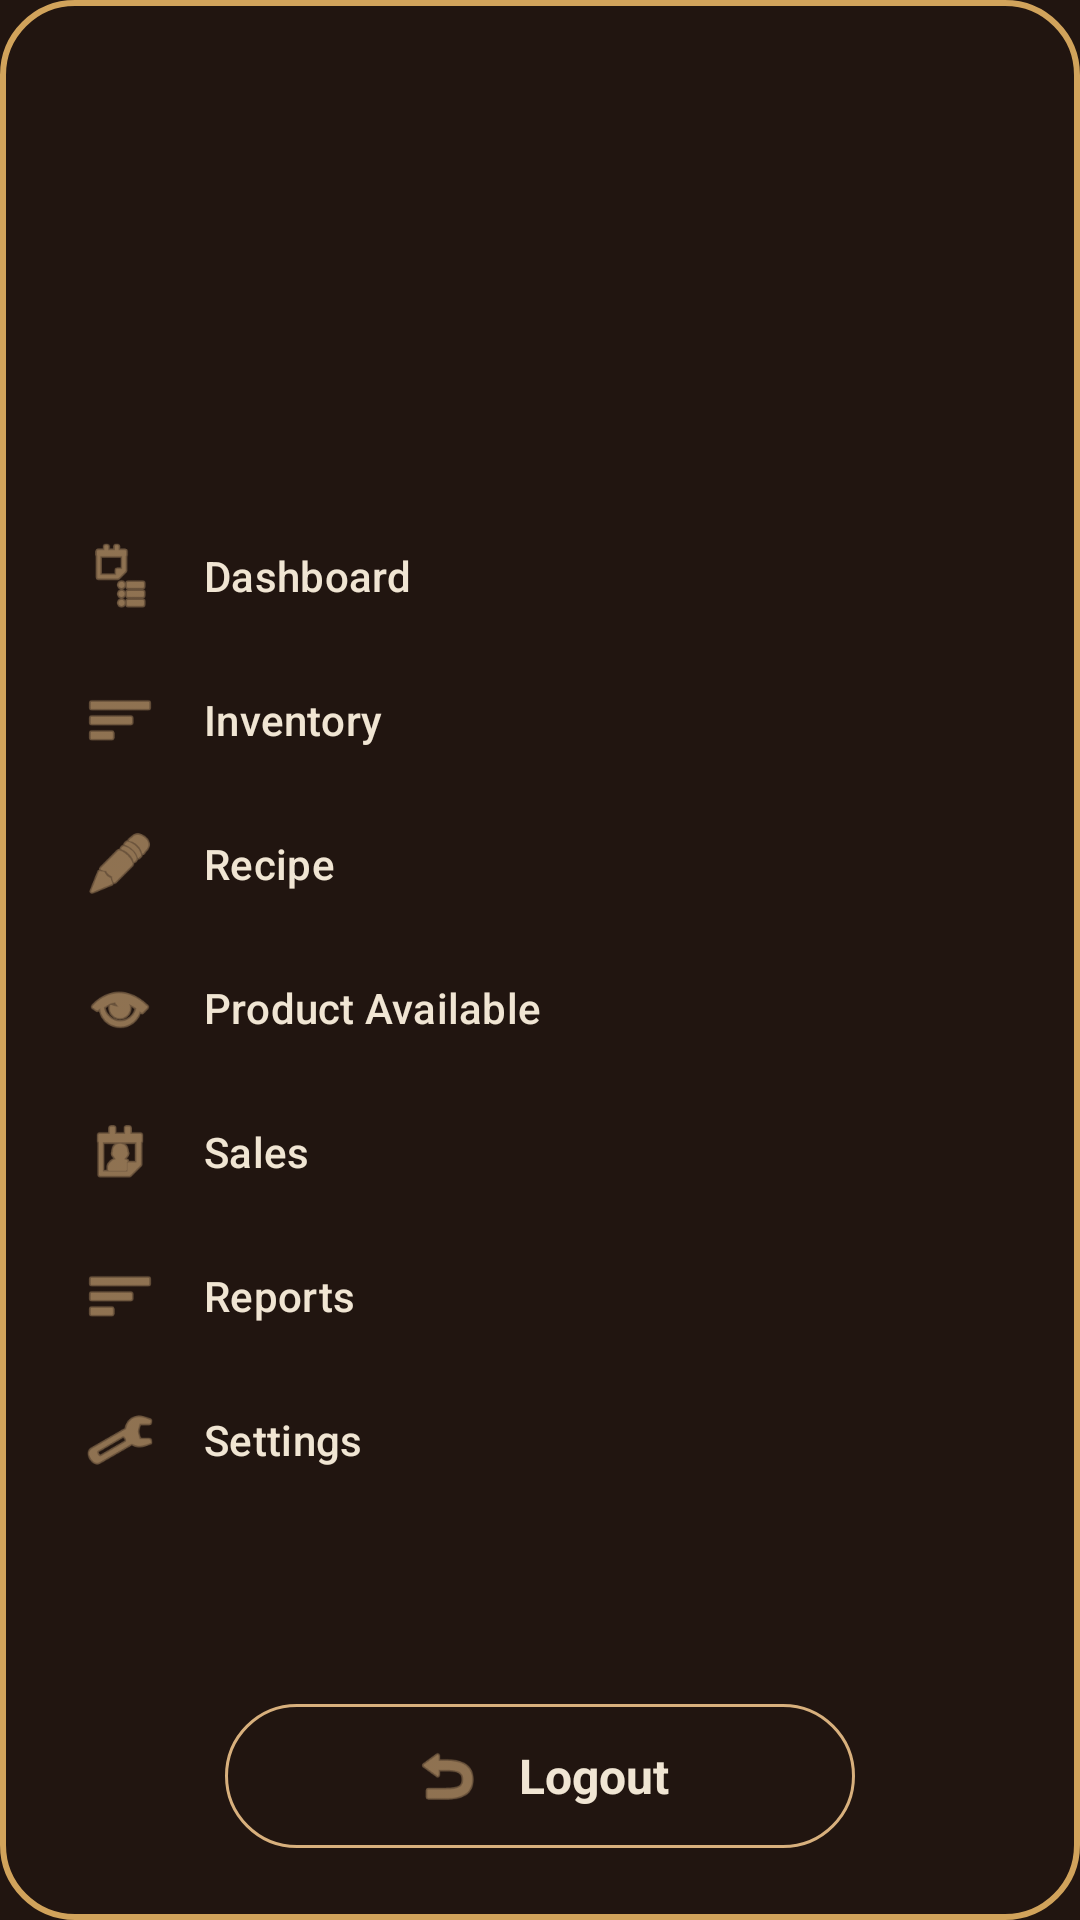

Point at icon controls on the screen. Image size 1080px×1920px, points as point (x, y).
revert: point (448, 1776)
